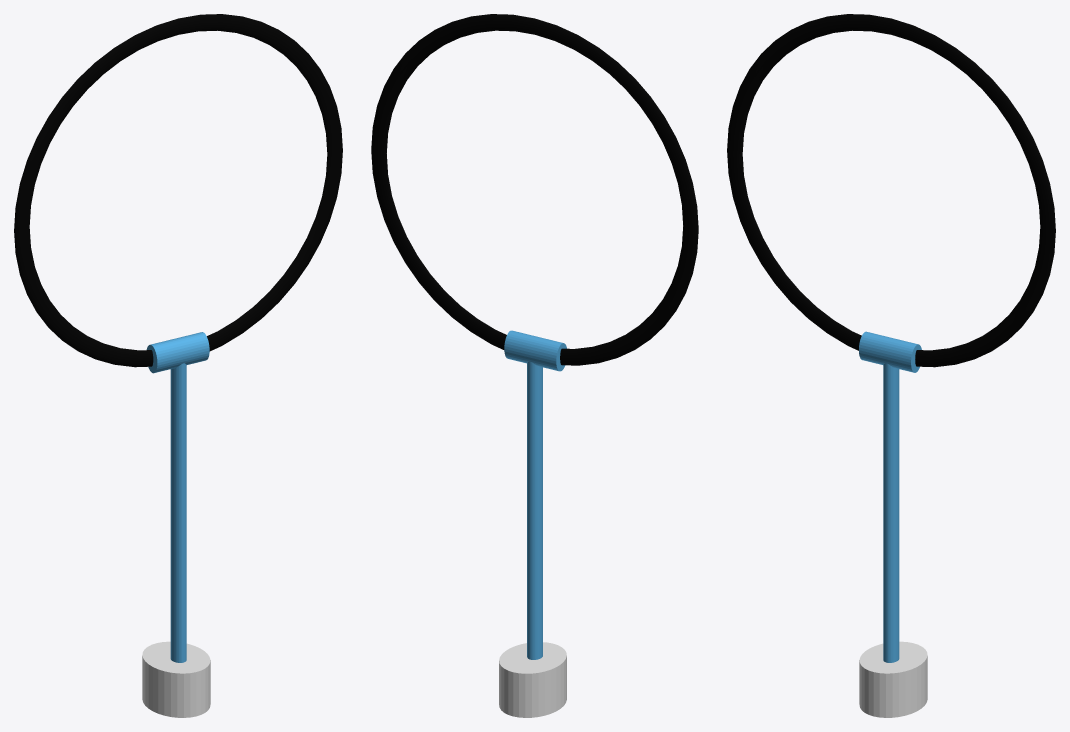
File: Hoop_re-re-re.fbx
The picture shows the model from 3 angles, left to right: view 1: azimuth 30°, elevation 25°; view 2: azimuth 150°, elevation 25°; view 3: azimuth 330°, elevation 25°; orthographic projection.
Visible parts, largest first — view 1: BezierCircle, Cylinder, Cylinder.001, Cylinder.002; view 2: BezierCircle, Cylinder, Cylinder.001, Cylinder.002; view 3: BezierCircle, Cylinder, Cylinder.001, Cylinder.002.
Boxes of the visible parts, x1,y1,x2,y2 form: BezierCircle: (14, 14, 342, 367); Cylinder: (170, 363, 186, 662); Cylinder.001: (142, 641, 210, 717); Cylinder.002: (146, 332, 209, 373); BezierCircle: (371, 14, 698, 365); Cylinder: (527, 361, 542, 659); Cylinder.001: (499, 642, 566, 717); Cylinder.002: (504, 330, 566, 371); BezierCircle: (727, 14, 1055, 367); Cylinder: (883, 363, 899, 662); Cylinder.001: (859, 641, 927, 717); Cylinder.002: (859, 331, 921, 372).
Bounding box in the file's own units: 101 × 201 × 21.
